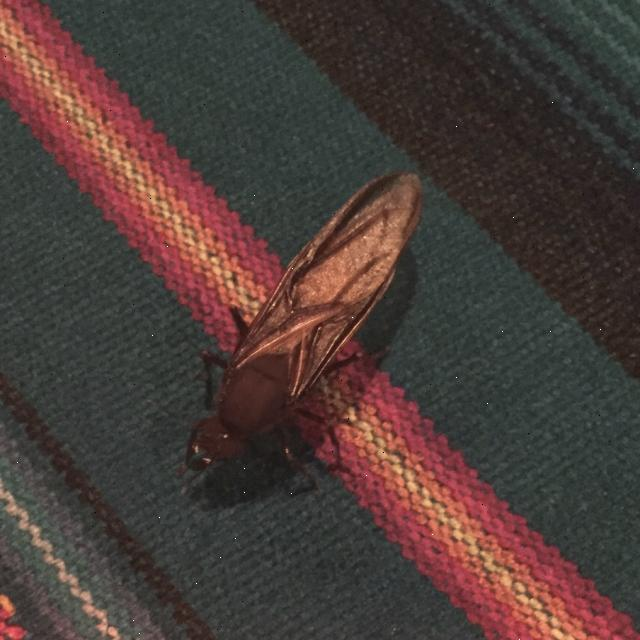Alive-Female-Alate: (173, 170, 424, 498)
